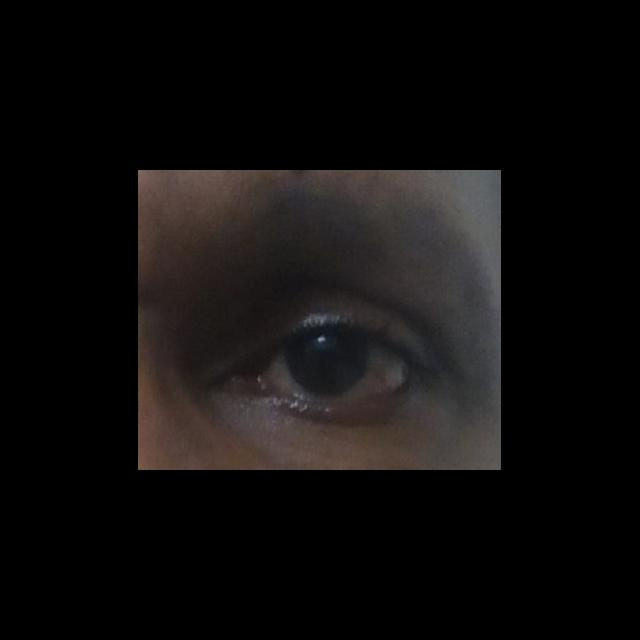eye: (261, 327, 412, 406)
iris: (284, 333, 374, 395)
